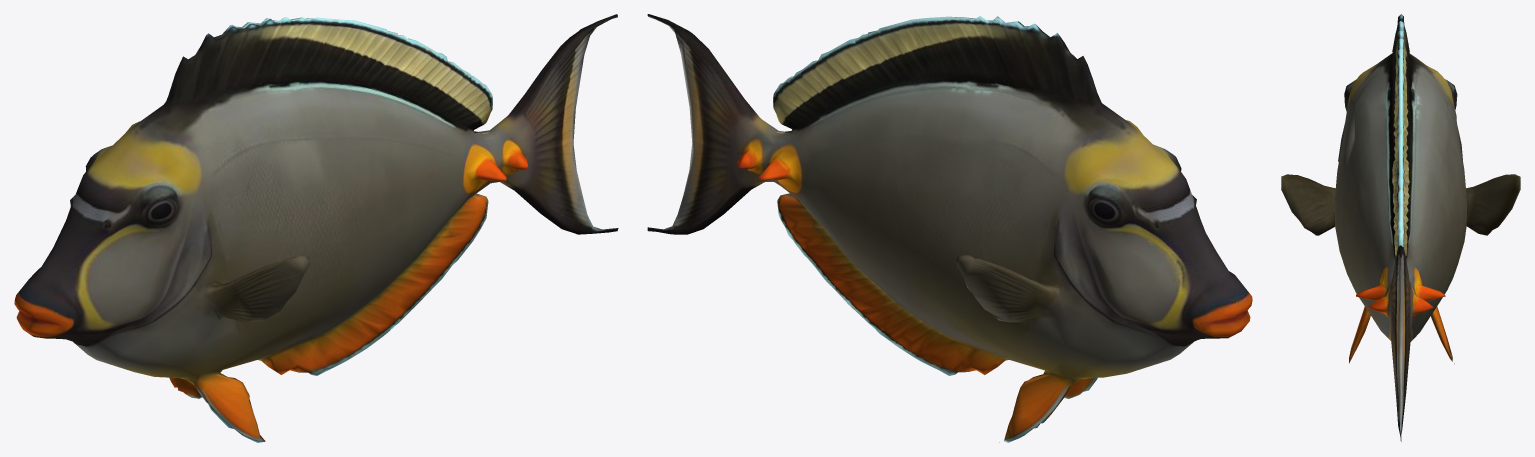
Rendered from naso_tang.352834aeed.glb.
3 renders of one model, left to right at view 1: azimuth 30°, elevation 25°; view 2: azimuth 150°, elevation 25°; view 3: azimuth 270°, elevation 25°, orthographic. The views are drawn at different scales.
Visible parts, largest first — view 1: naso_tang; view 2: naso_tang; view 3: naso_tang.
Boxes of the visible parts, left/top/right/bottom form: naso_tang: left=14, top=14, right=618, bottom=442; naso_tang: left=647, top=14, right=1252, bottom=442; naso_tang: left=1281, top=14, right=1520, bottom=441.
Size of the model in its own units: 0.9789 by 0.618 by 0.3931.
Materials: 1 (1 with a texture image).
